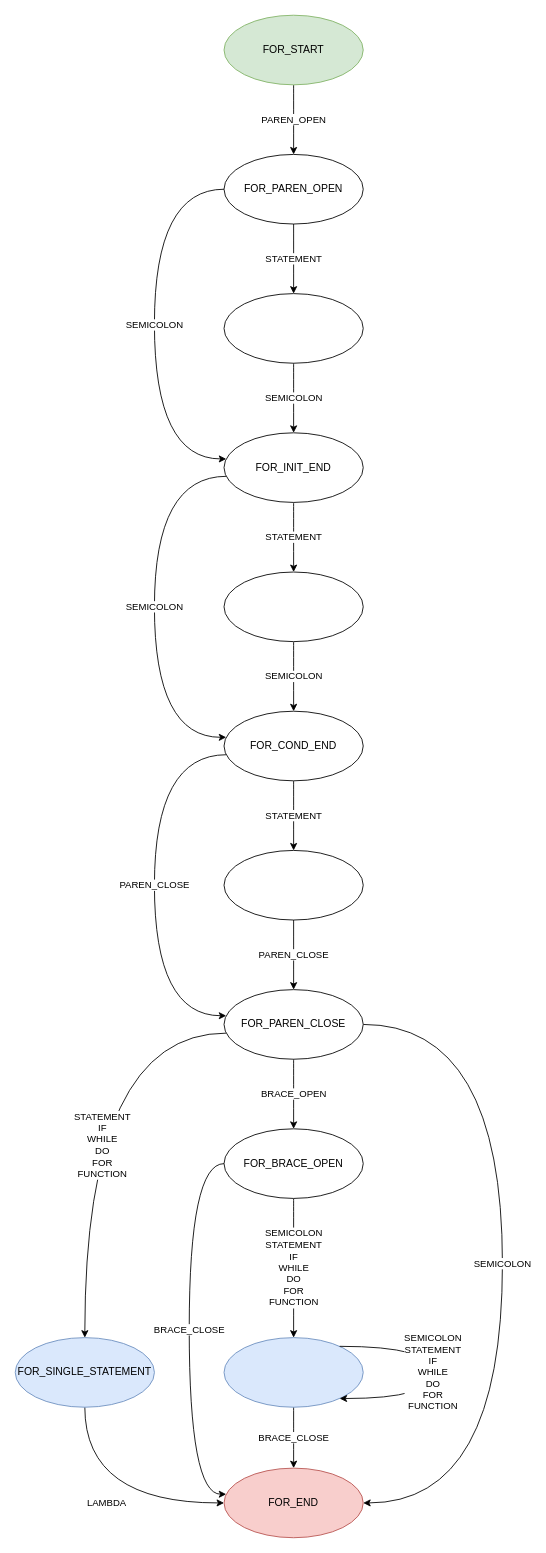
The diagram is 546 pixels wide and 1553 high, and some of its shapes have lost their labels. Here are the shapes that lost their labels. From the top down, the centre of each, then its label:
At pixel 293 328: "FOR_INIT".
At pixel 293 606: "FOR_COND".
At pixel 293 885: "FOR_MODIFY".
At pixel 293 1372: "FOR_STATEMENT".
